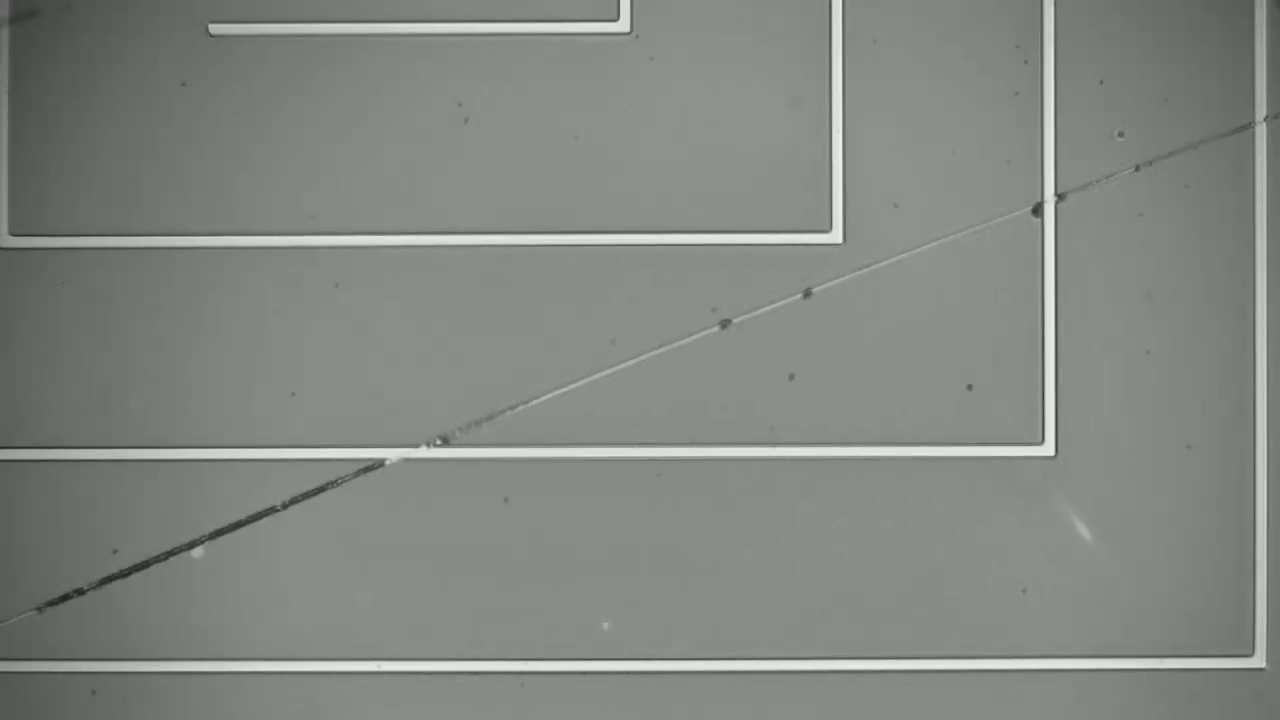scratch: (15, 119, 1257, 622)
